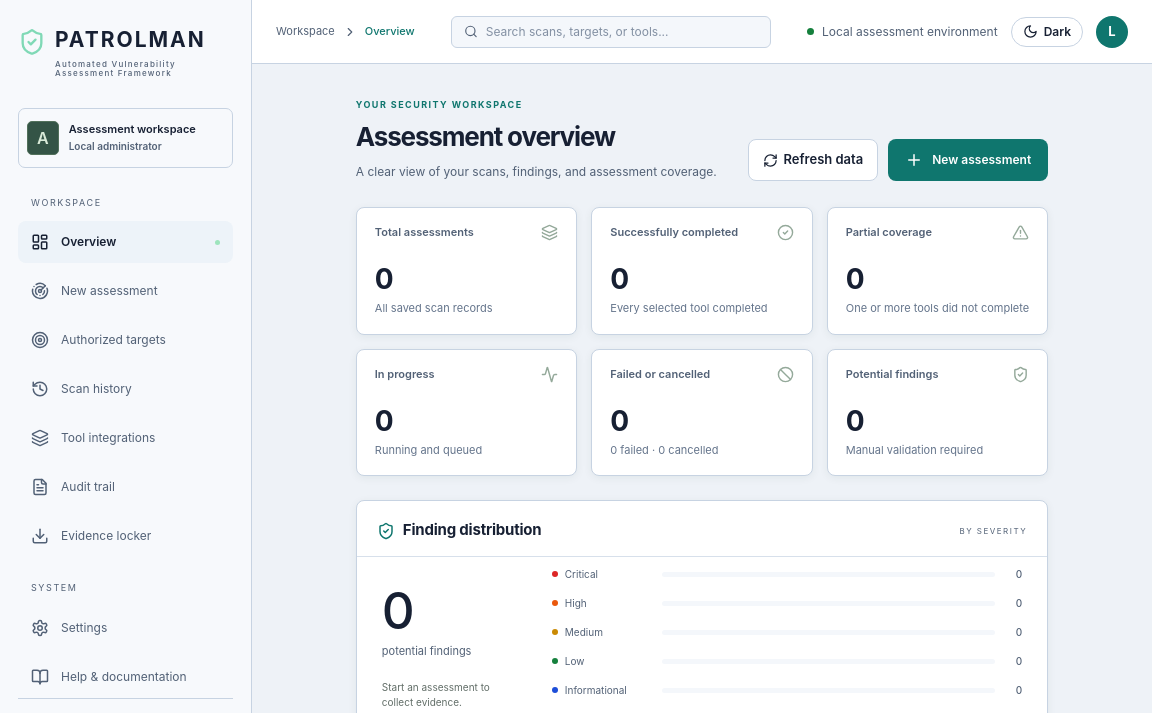
Scenario: navigates to Help & documentation page when Help sidebar item is clicked
The width and height of the screenshot is (1152, 713).
Click the link "Help & documentation": click(109, 677) [31,668,187,686]
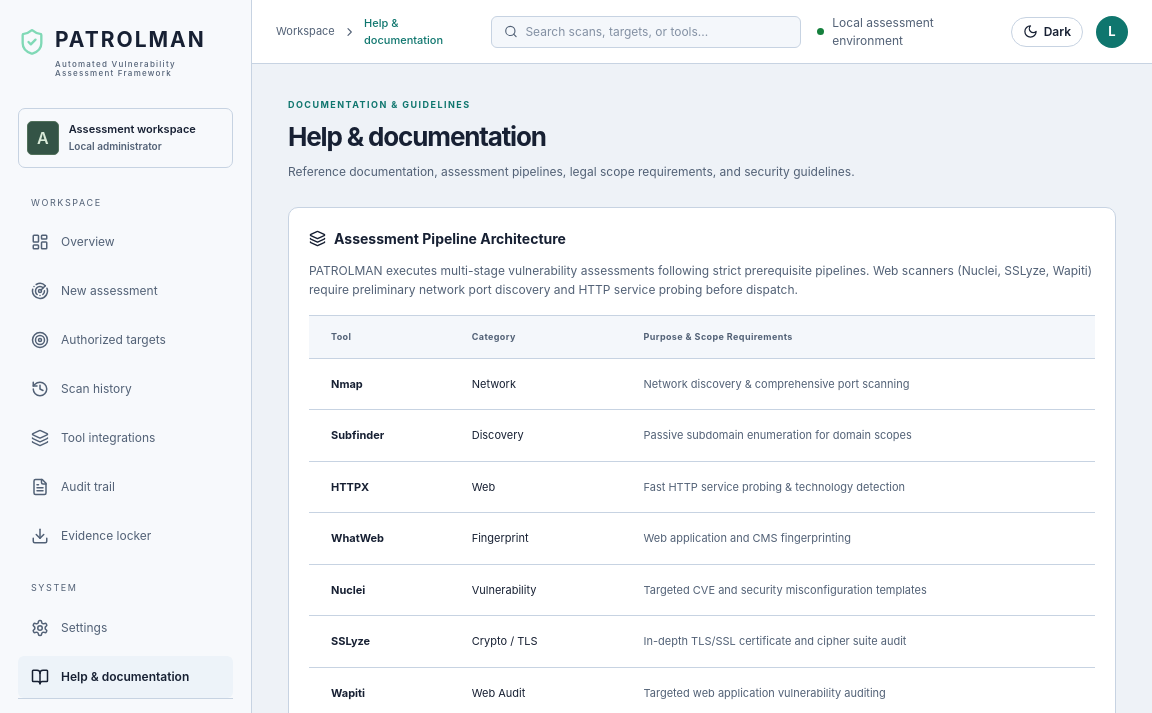
Check: the heading "Help & documentation" is shown, box [288,120,546,152]
Check: the heading "Assessment Pipeline Architecture" is shown, box [309,230,566,247]
